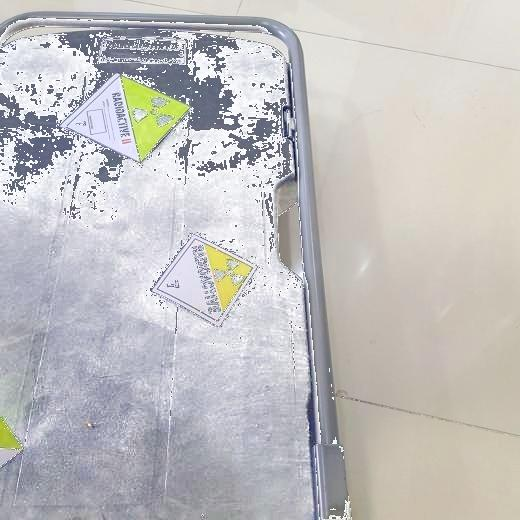radioactive: (64, 73, 193, 163), (150, 231, 256, 327)
